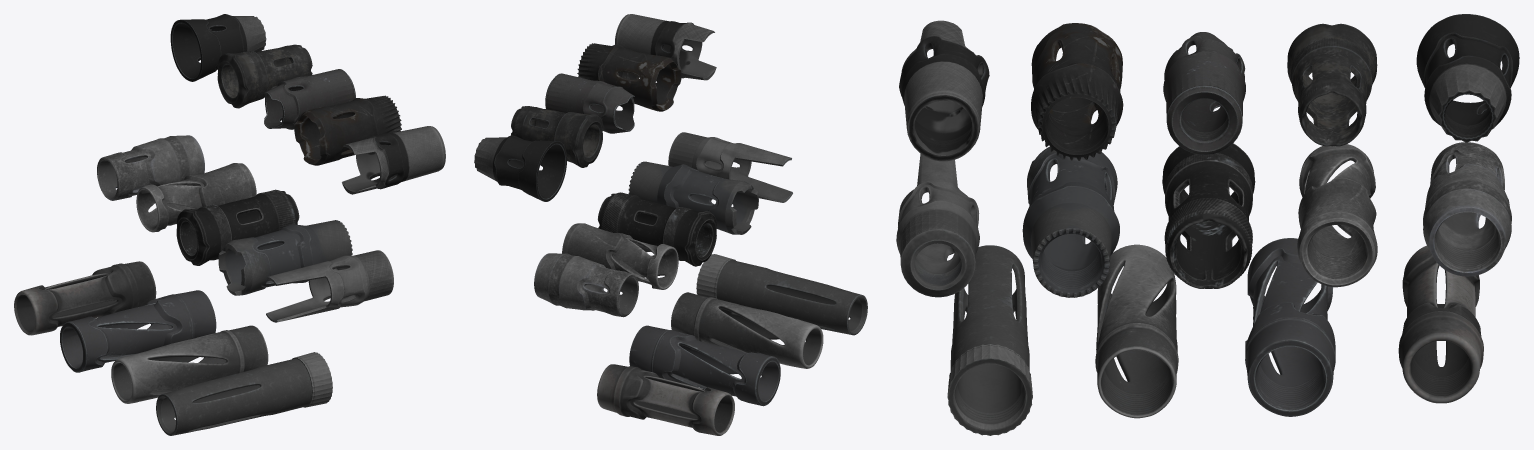
Rendered from flash_hiders_pack_1.glb.
3 renders of one model, left to right at view 1: azimuth 30°, elevation 25°; view 2: azimuth 150°, elevation 25°; view 3: azimuth 270°, elevation 25°, orthographic. The views are drawn at different scales.
Parts seen in each view (by area): view 1: flash_hider_Baked; view 2: flash_hider_Baked; view 3: flash_hider_Baked.
Boxes of the visible parts, <box> form: flash_hider_Baked: <box>14,14,445,435</box>; flash_hider_Baked: <box>474,14,867,435</box>; flash_hider_Baked: <box>896,14,1519,435</box>.
Bounding box in the file's own units: 37.76 × 37.95 × 49.17.
1 material, 1 textured.
